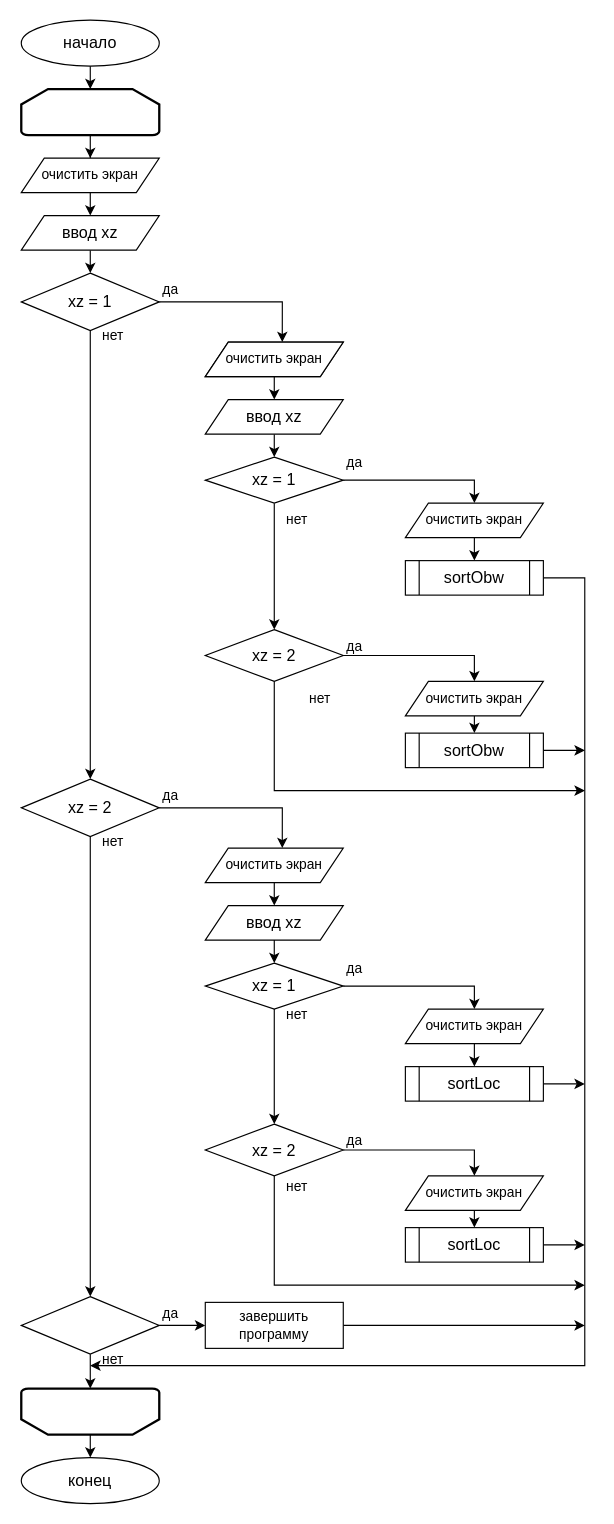
Image size: 614x1524. Some labels were removed from this diagram. The shapes that lost their labels are listed below. From the top down, each one's centre as x and y in pixels, then its label:
At pixel 90 111: "цикл 1".
At pixel 89 1324: "xz = 3".
At pixel 90 1411: "цикл 1 xz = 3".
